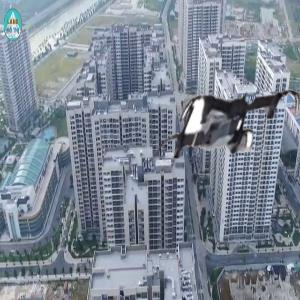drone: (169, 61, 296, 188)
